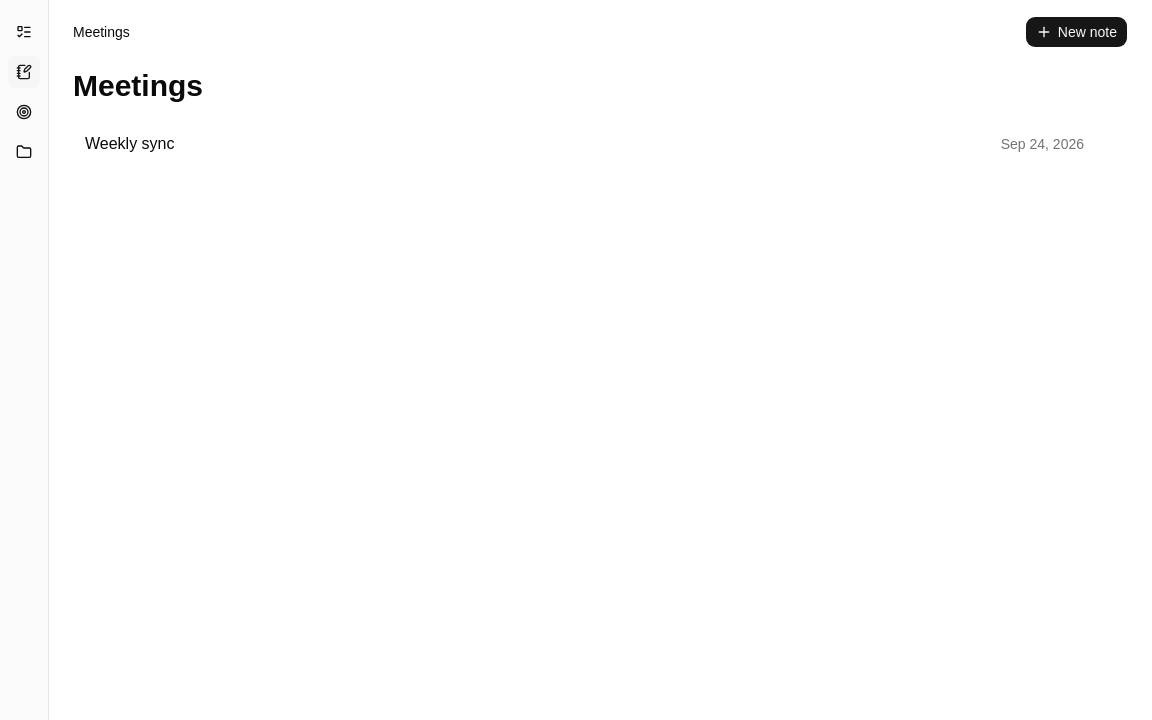
Test: A new action item › appears at the top of the Icebox on the Work page, with the project of the meeting
Click the link "Weekly sync Sep 24, 2026" at point(130, 144), box [85,135,1084,152]
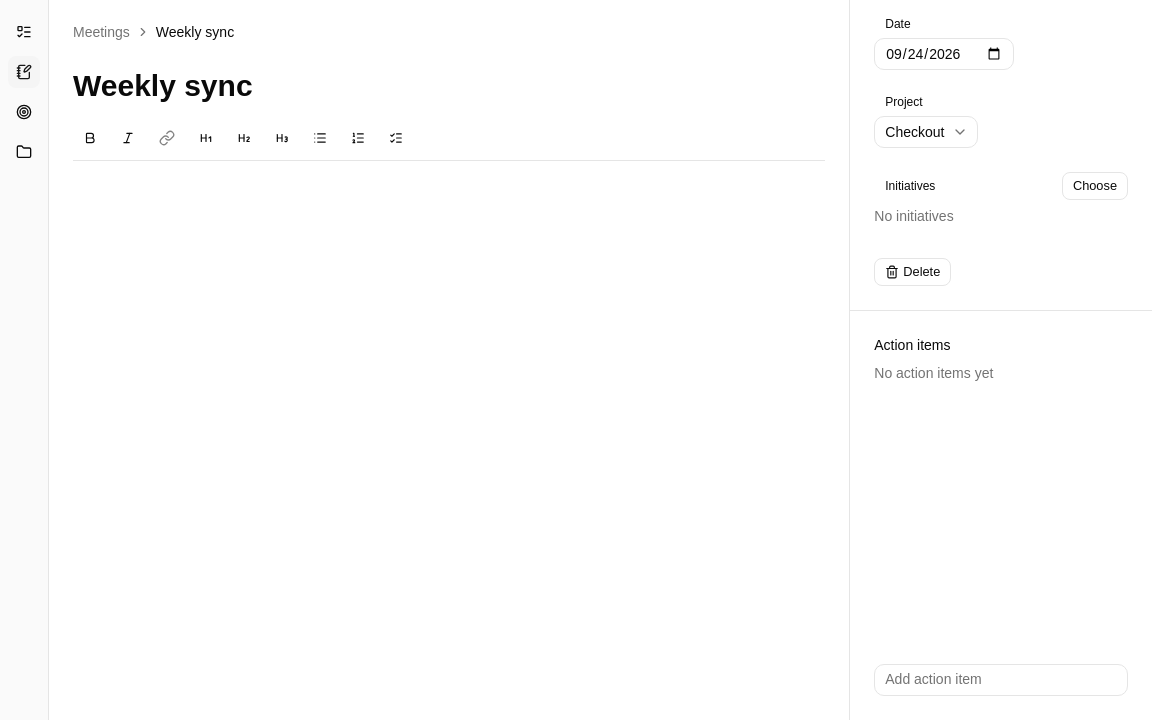
Check: the text "No action items yet" is shown, box [874,365,993,381]
Click the text box with placeholder "Add action item" at point(1001, 680), box [874,664,1128,696]
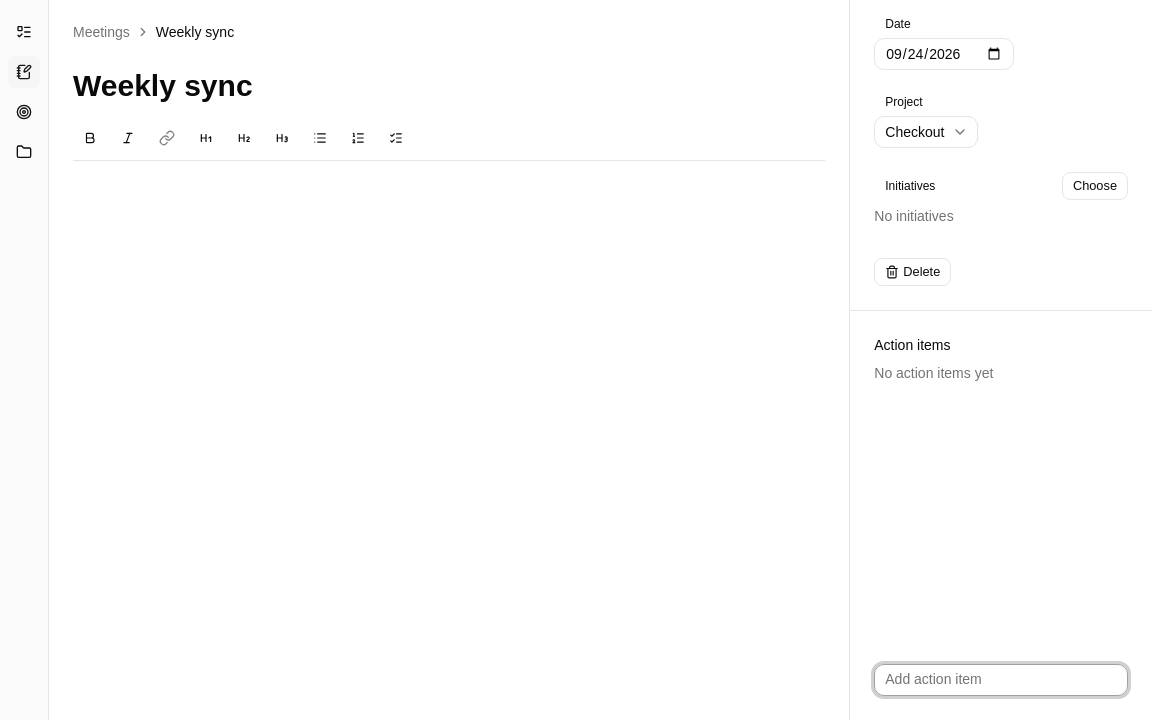
Type keys "Call Sam{Enter}"
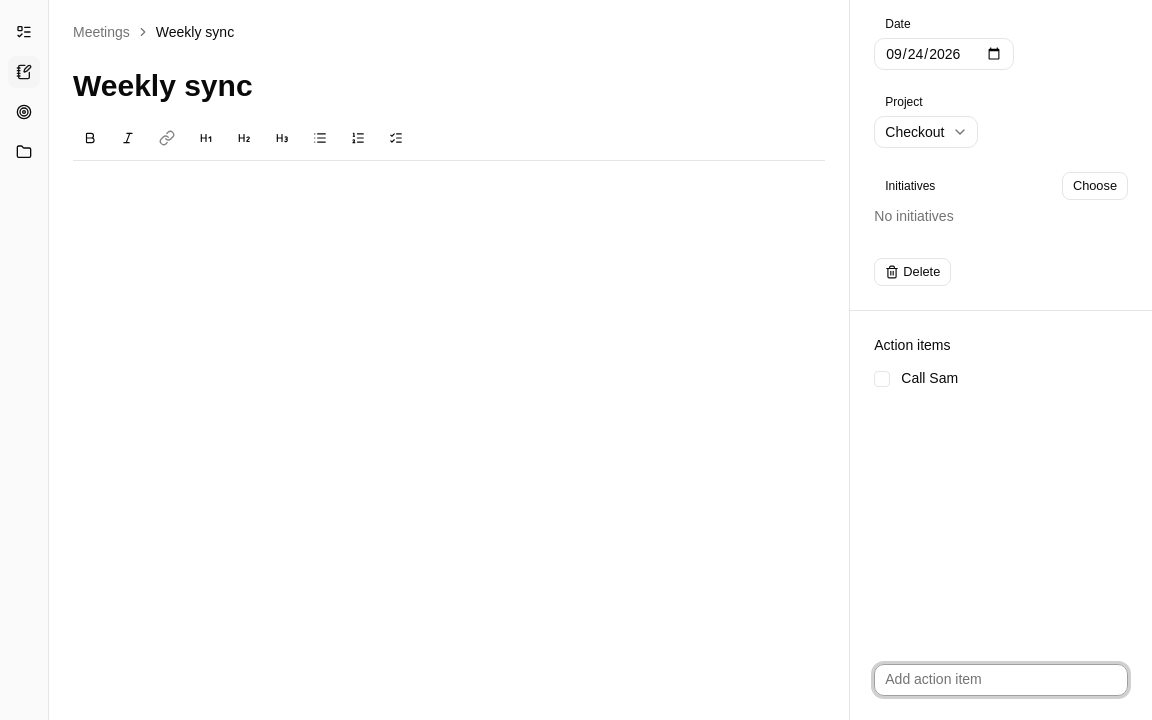
Click the 1st link named "Work" at point(24, 32), box [8,16,40,48]
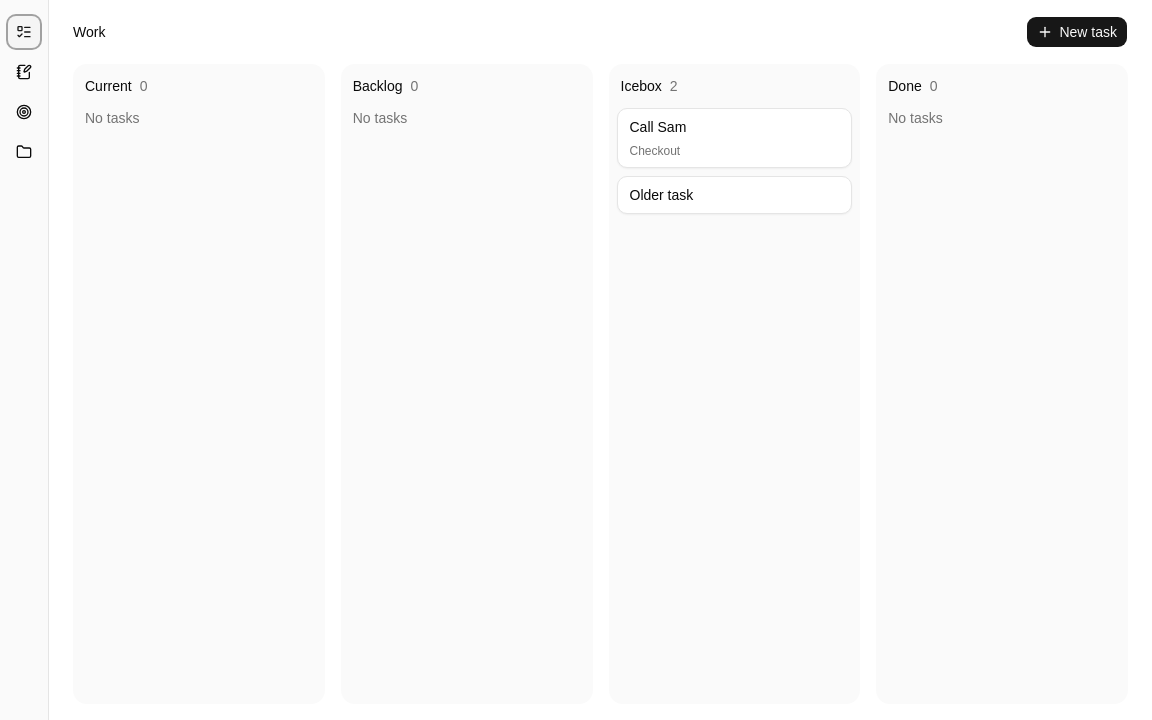
Check: the element "Icebox" is shown, box [608,64,860,704]
